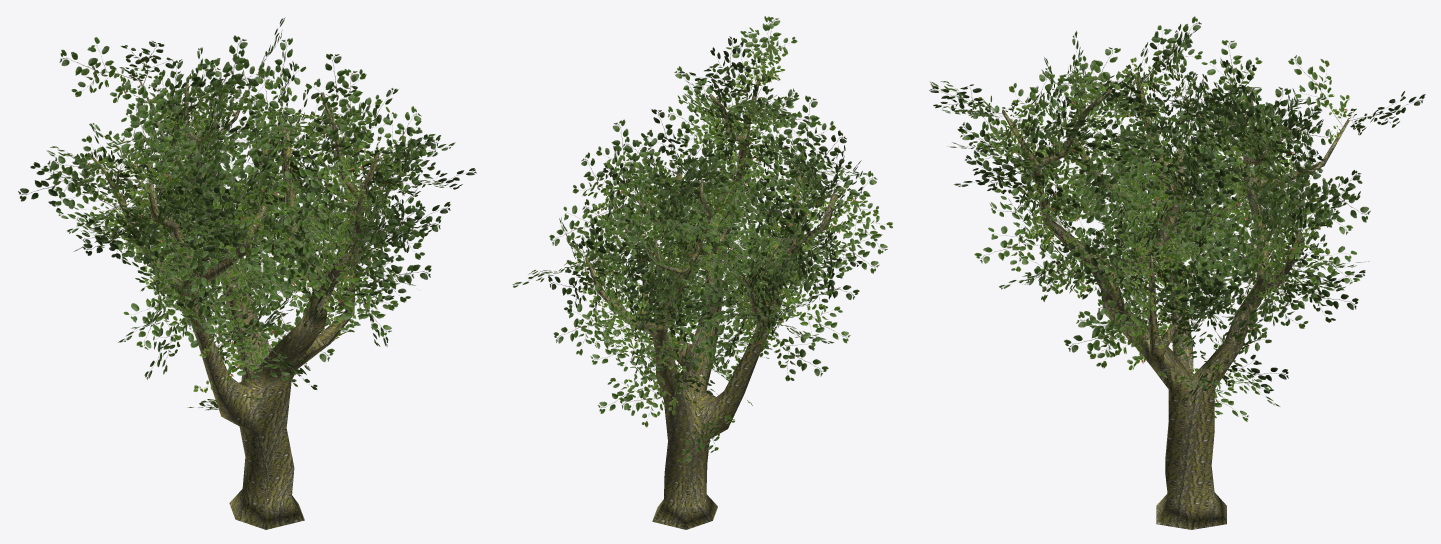
The model's file is the_low_poly_tree_h.glb.
3 renders of one model, left to right at view 1: azimuth 30°, elevation 25°; view 2: azimuth 150°, elevation 25°; view 3: azimuth 270°, elevation 25°, orthographic. The views are drawn at different scales.
Visible parts, largest first — view 1: Tree, Tree Branch.241, Tree Branch.144, Tree Branch.171, Tree Branch.220, Tree Branch.271, Tree Branch.089, Tree Branch.146, Tree Branch.198, Tree Branch.008, Tree Branch.261, Tree Branch.272 (+58 smaller); view 2: Tree, Tree Branch.250, Tree Branch.158, Tree Branch.114, Tree Branch.234, Tree Branch.148, Tree Branch.222, Tree Branch.154, Tree Branch.229, Tree Branch.204, Tree Branch.195, Tree Branch.147 (+64 smaller); view 3: Tree, Tree Branch.292, Tree Branch.285, Tree Branch.107, Tree Branch.219, Tree Branch.043, Tree Branch.265, Tree Branch.067, Tree Branch.254, Tree Branch.262, Tree Branch.061, Tree Branch.111 (+58 smaller).
Part boxes in pixels (x1,y1,x2,y2): Tree: (89,77,390,529); Tree Branch.241: (191,35,265,119); Tree Branch.144: (113,102,177,194); Tree Branch.171: (41,153,122,231); Tree Branch.220: (59,37,145,103); Tree Branch.271: (305,53,366,135); Tree Branch.089: (281,148,367,207); Tree Branch.146: (133,119,208,205); Tree Branch.198: (198,155,270,224); Tree Branch.008: (312,274,397,336); Tree Branch.261: (278,188,355,248); Tree Branch.272: (318,69,382,160); Tree: (585,78,836,529); Tree Branch.250: (596,119,657,198); Tree Branch.158: (686,299,753,369); Tree Branch.114: (759,313,828,381); Tree Branch.234: (709,170,780,240); Tree Branch.148: (819,197,892,254); Tree Branch.222: (640,188,694,269); Tree Branch.154: (770,293,850,346); Tree Branch.229: (684,138,734,220); Tree Branch.204: (803,221,879,276); Tree Branch.195: (777,95,835,174); Tree Branch.147: (780,153,848,207); Tree: (1002,78,1349,529); Tree Branch.292: (1136,188,1213,262); Tree Branch.285: (1064,297,1148,368); Tree Branch.107: (1216,214,1285,294); Tree Branch.219: (1288,55,1349,141); Tree Branch.043: (1112,128,1192,202); Tree Branch.265: (1064,47,1129,121); Tree Branch.067: (1166,107,1246,164); Tree Branch.254: (1036,184,1120,241); Tree Branch.262: (1032,142,1120,201); Tree Branch.061: (1104,150,1190,216); Tree Branch.111: (1289,225,1360,284).
Bounding box in the file's own units: 1218 × 1518 × 1418.
2 materials, 2 textured.
